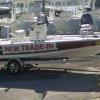Boat: (0, 27, 98, 79)
